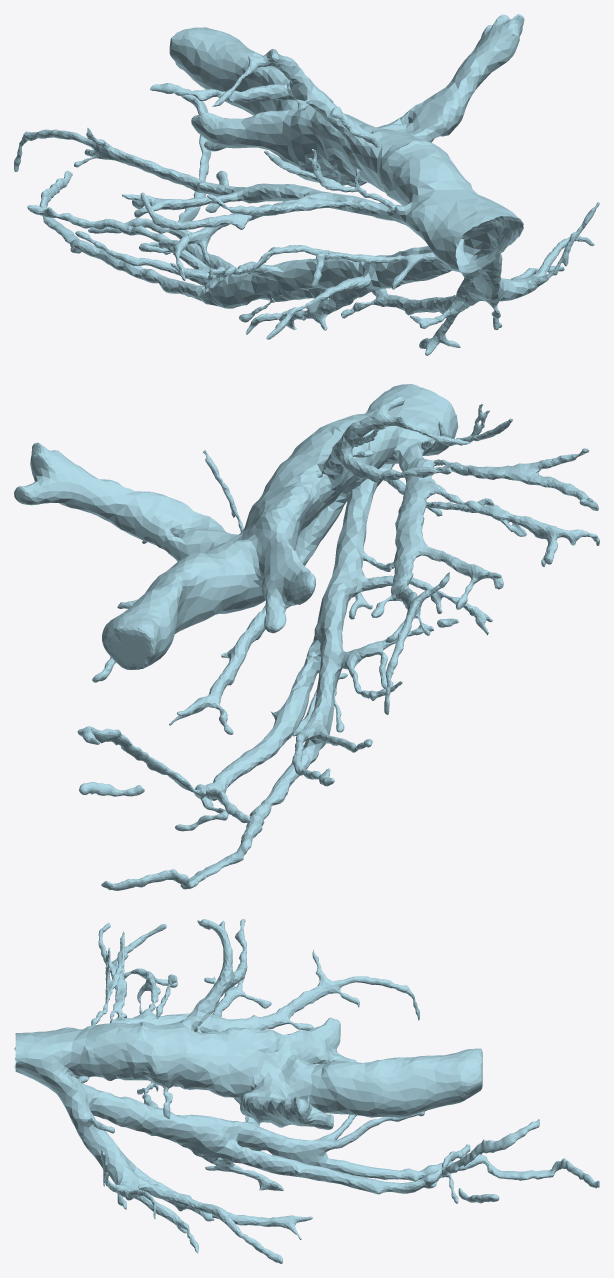
File: venacava.obj
The picture shows the model from 3 angles, top to bottom: view 1: azimuth 30°, elevation 25°; view 2: azimuth 150°, elevation 25°; view 3: azimuth 270°, elevation 25°; orthographic projection. The views are drawn at different scales.
Visible parts, largest first — view 1: grp1; view 2: grp1; view 3: grp1.
Part boxes in pixels (x1,y1,x2,y2): grp1: [14, 14, 599, 355]; grp1: [14, 384, 599, 890]; grp1: [14, 919, 599, 1263].
Size of the model in its own units: 178 by 120 by 244.
